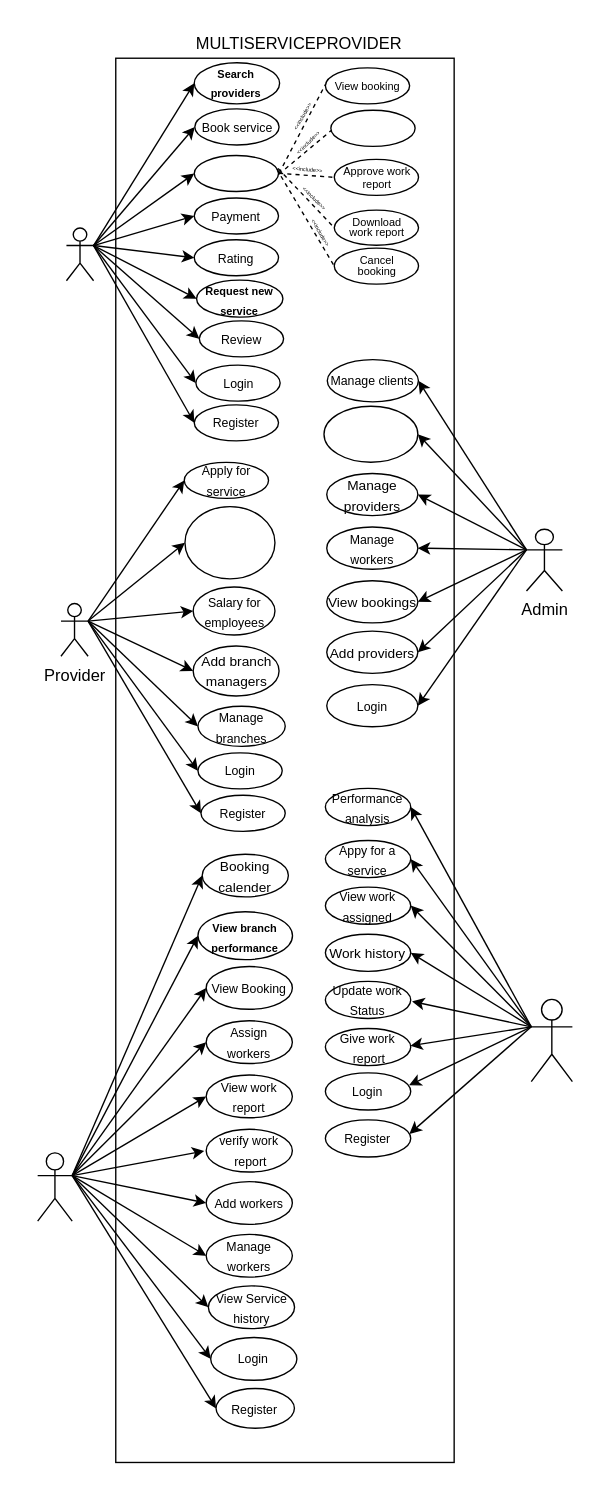
Image size: 603x1486. Some labels were removed from this diagram. The centre of each missing label's shape, as x and y in pixels:
"Booking" belongs at (x=236, y=173).
"Branch performance analysis" belongs at (x=229, y=542).
"Client" belongs at (x=79, y=254).
"Manage branch manager" belongs at (x=370, y=433).
"Manager" belongs at (x=54, y=1186).
"Reschedule booking" belongs at (x=372, y=127).
"Worker" belongs at (x=551, y=1040).
